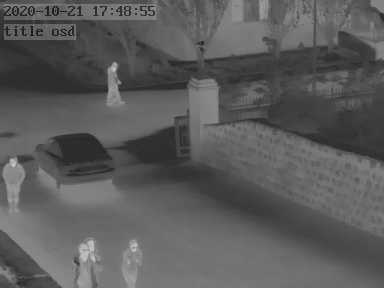person: (72, 235, 101, 288), (1, 154, 25, 211), (118, 236, 143, 288), (104, 61, 121, 103)
vehicle: (36, 132, 116, 187)
